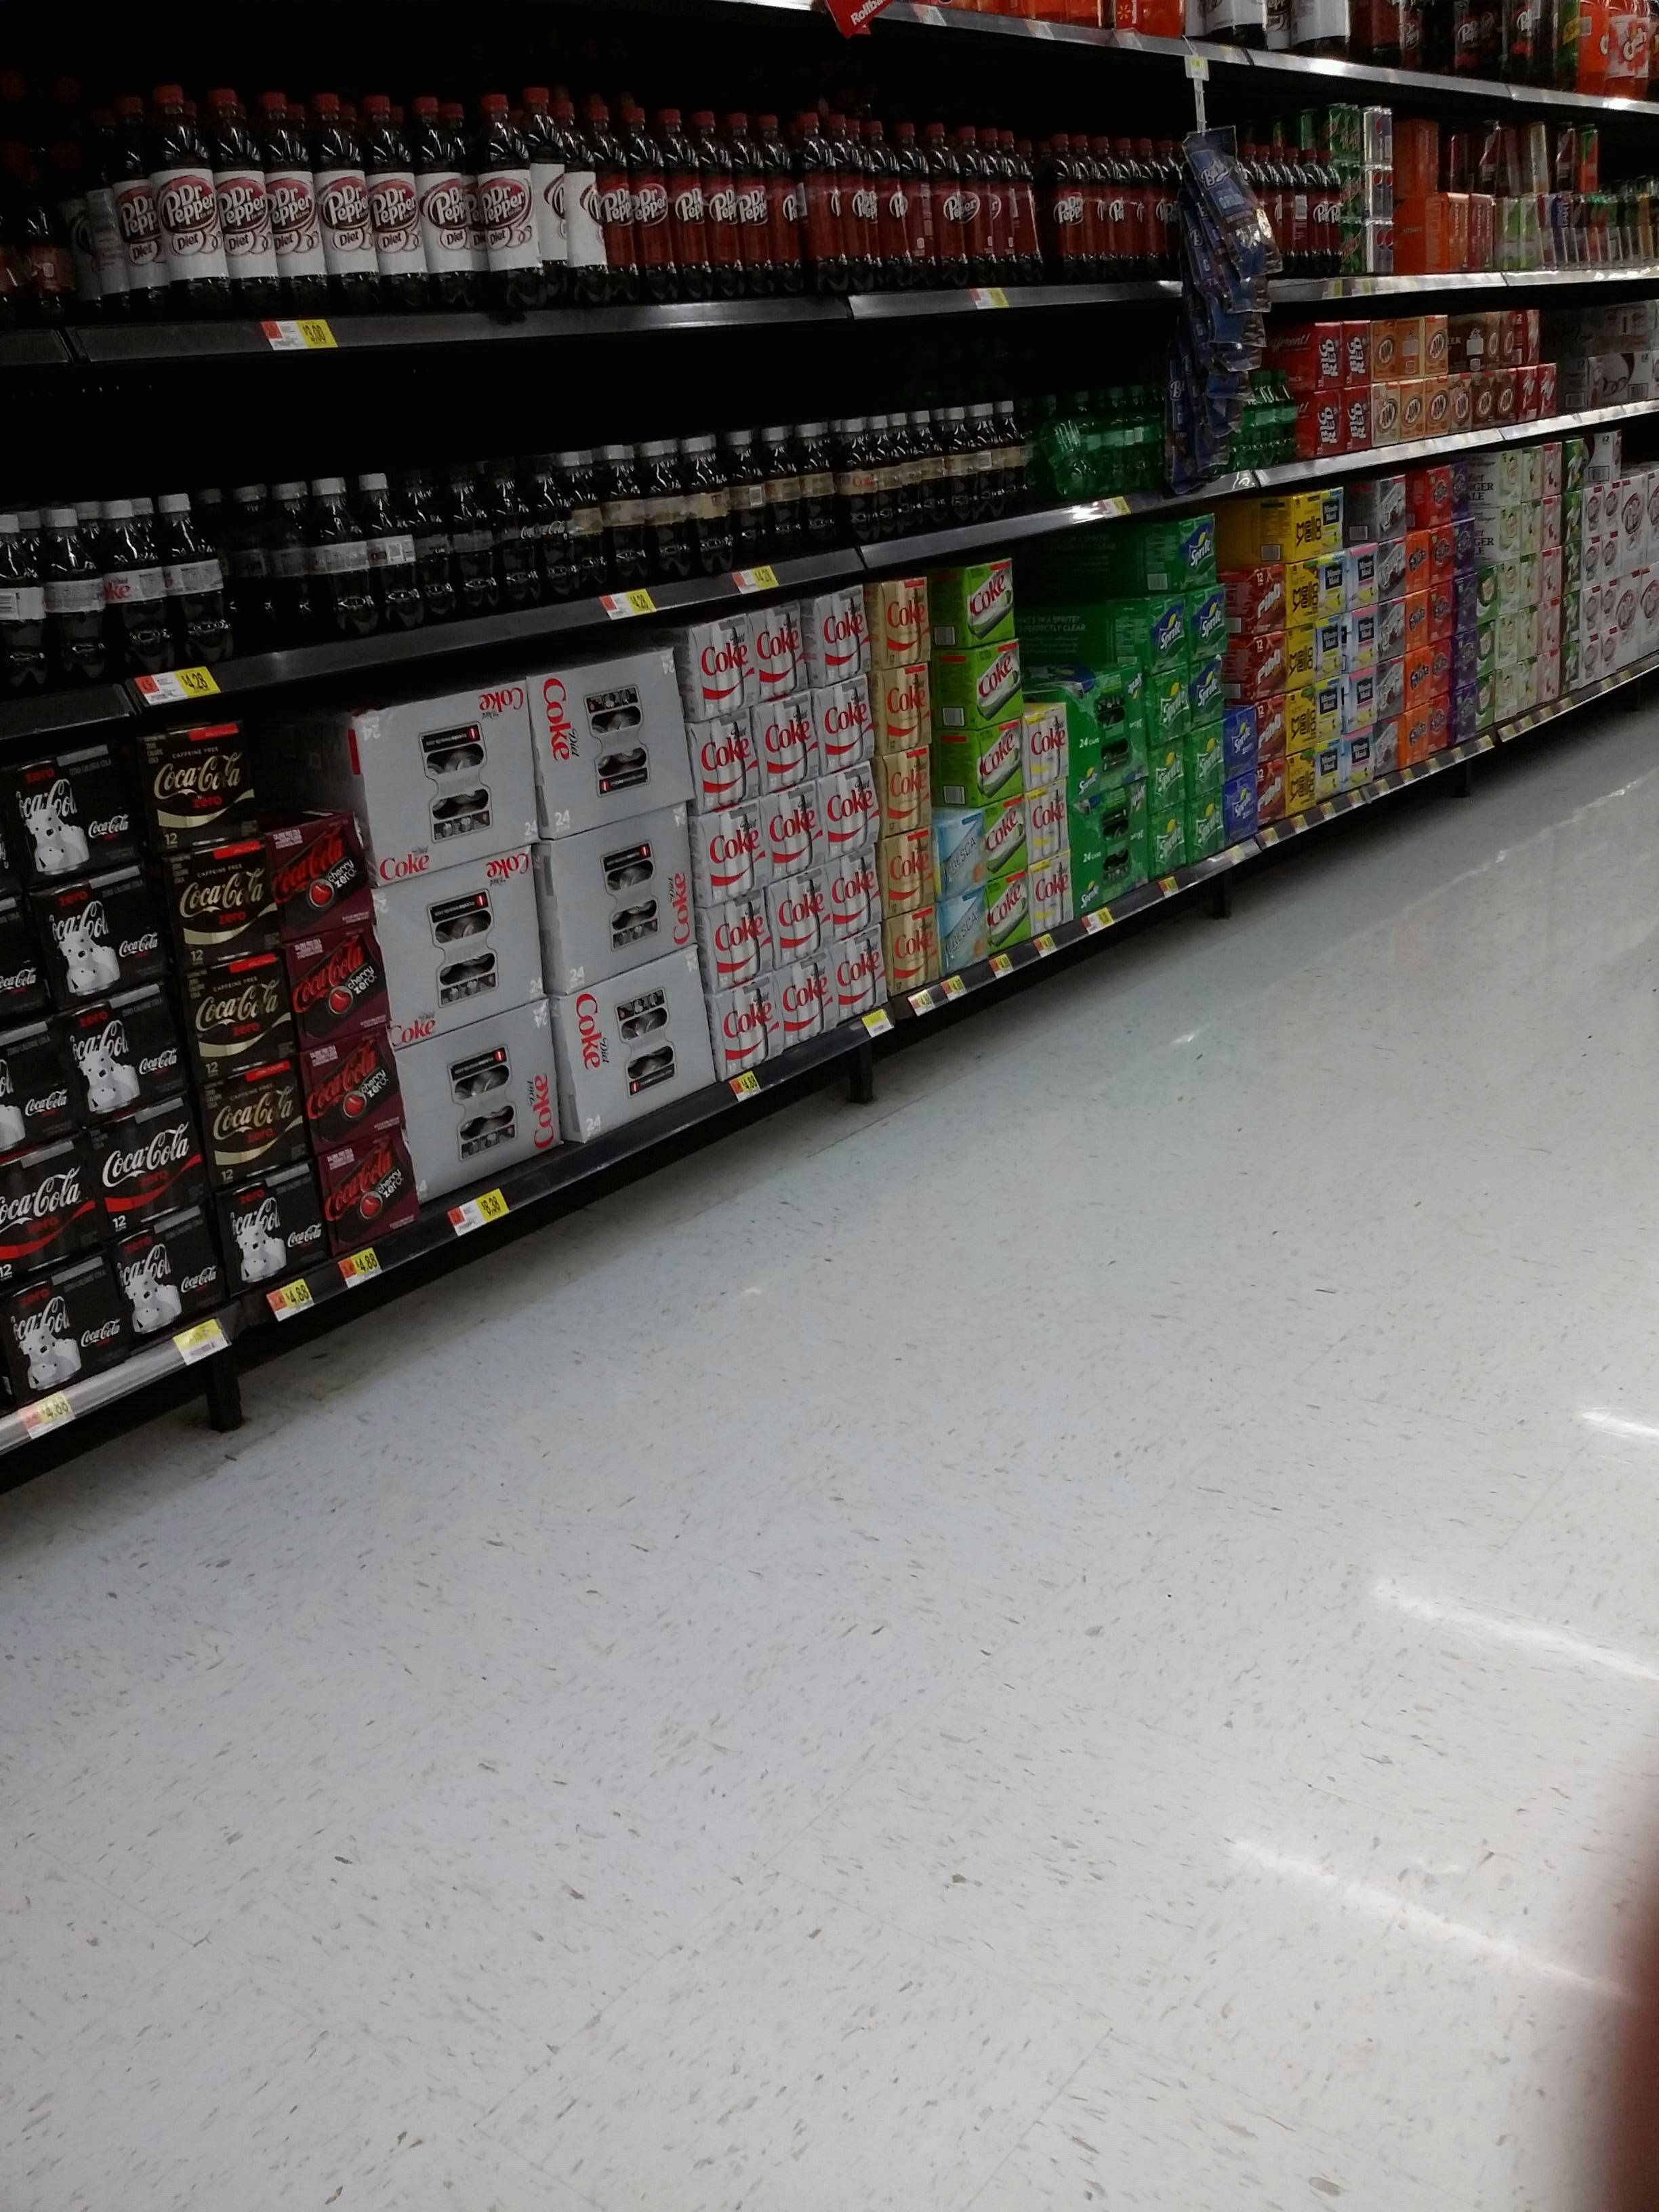Misplacement: (246, 690, 415, 1252)
